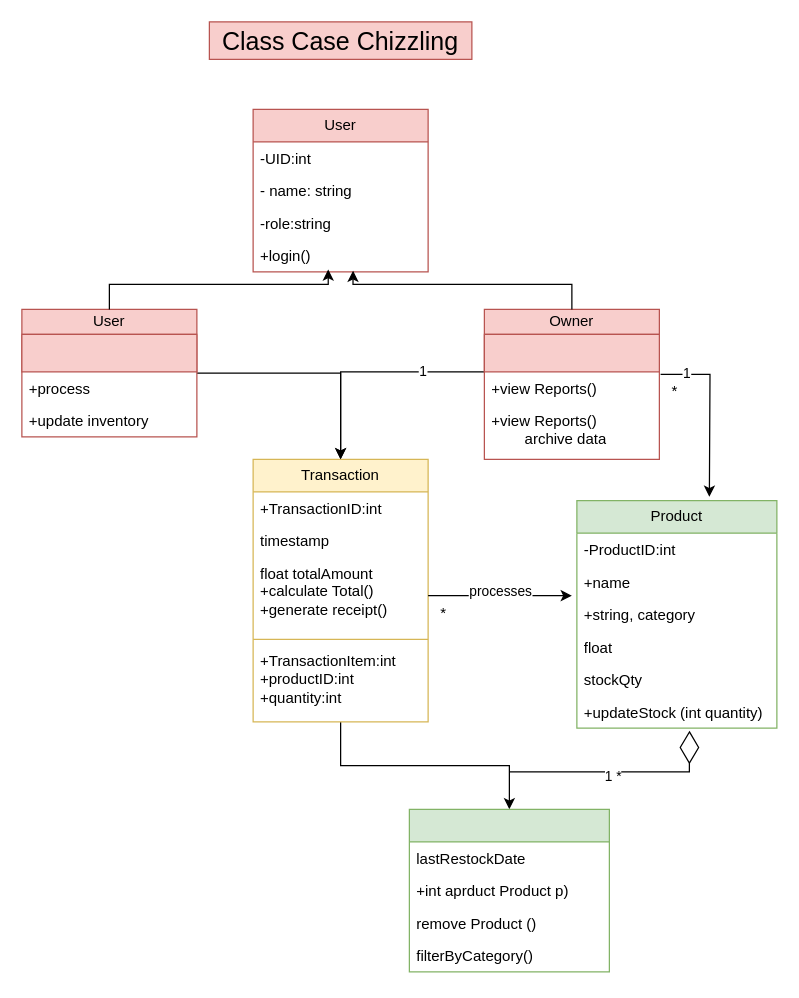
This 799x998 diagram has some shape labels left out. The box of each missing label's shape, as (x1, y1, x2, y2) in pixels:
Cashier: (21, 333, 197, 372)
Inventory: (408, 808, 609, 972)
Stock Clerk: (483, 333, 659, 372)
